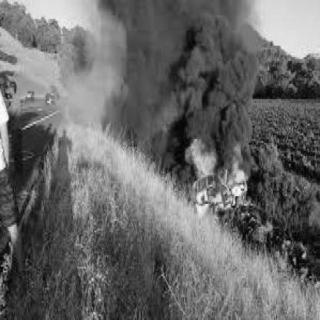Smoke: (98, 0, 254, 148)
